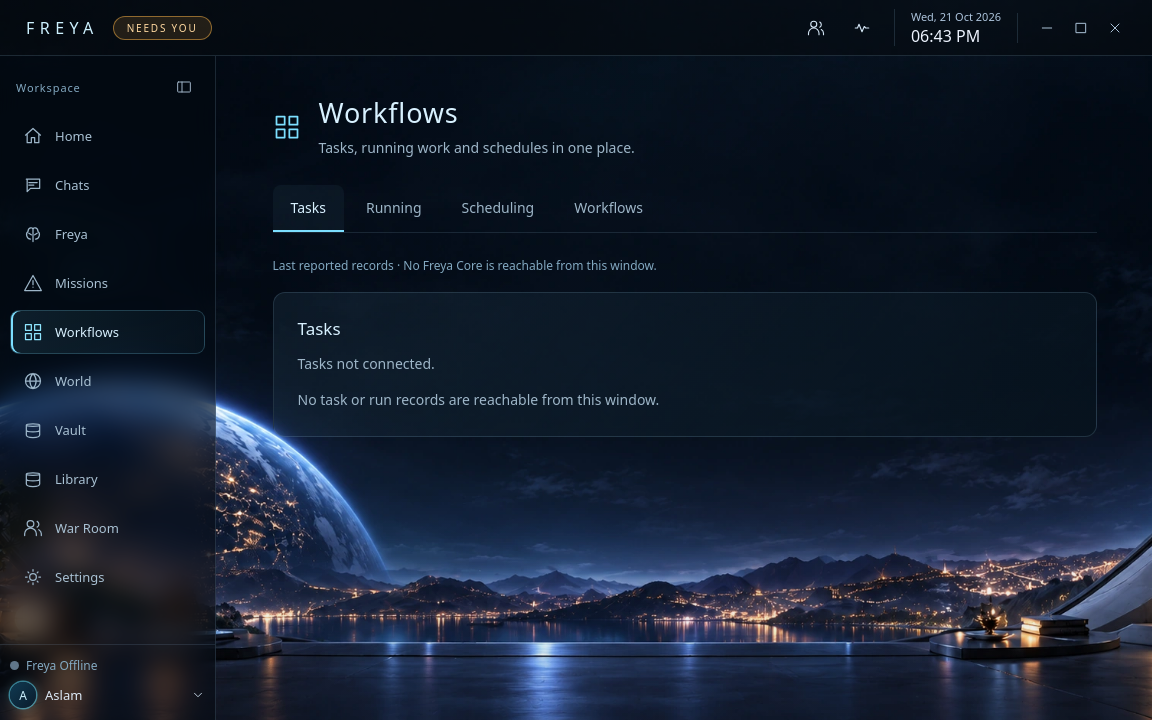
Test case: the shipping primary destinations › remembers Workflows subpages and keeps their tabs horizontal
Step 1. Click the tab "Scheduling" → (498, 209), box [444,185,552,232]
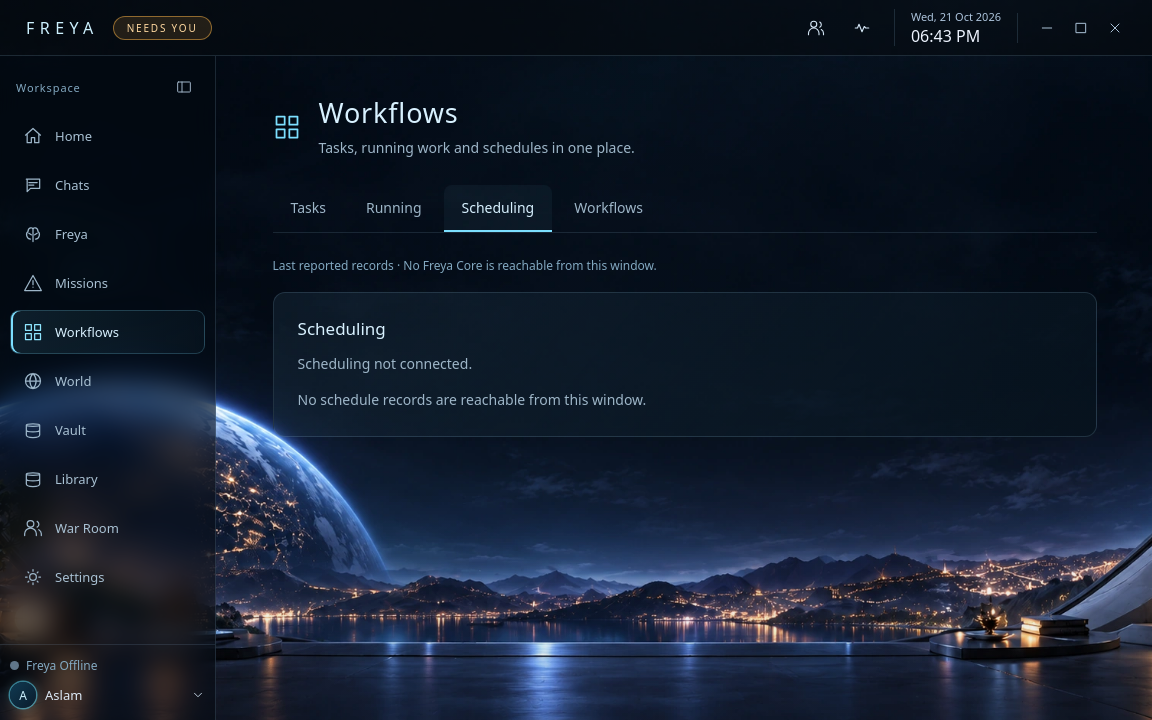
Step 2. Click the button "Chats" → (108, 185), box [10,163,205,207]
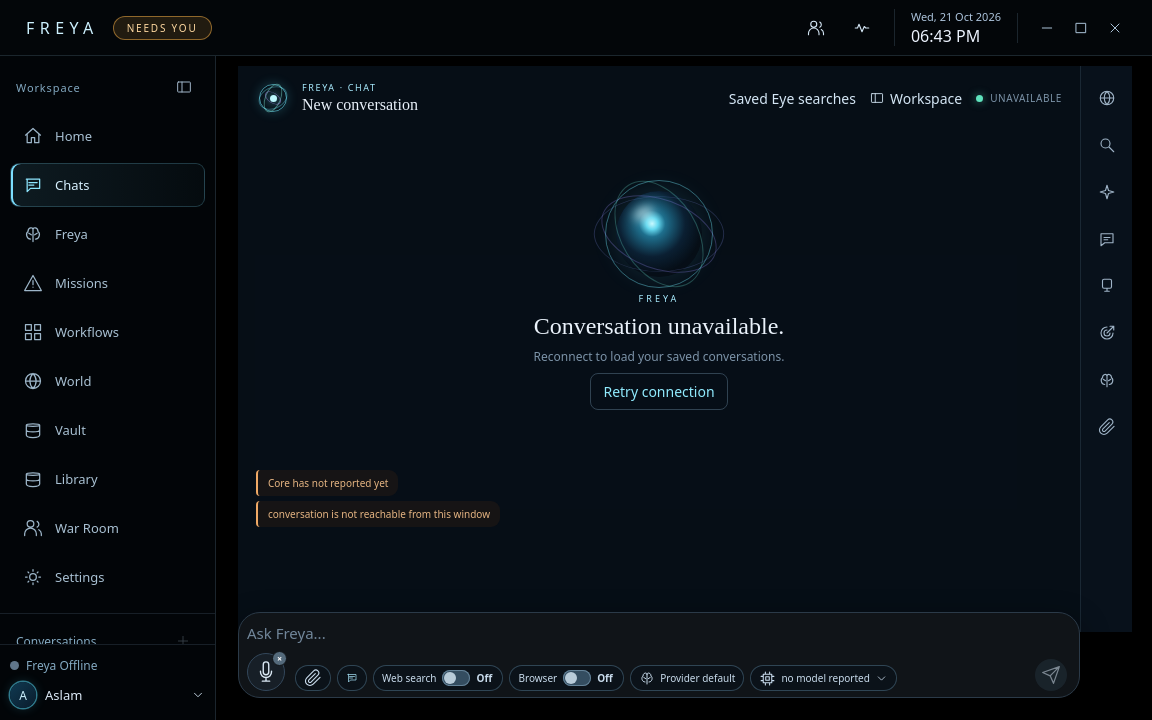
Step 3. Click the button "Workflows" → (108, 332), box [10,310,205,354]
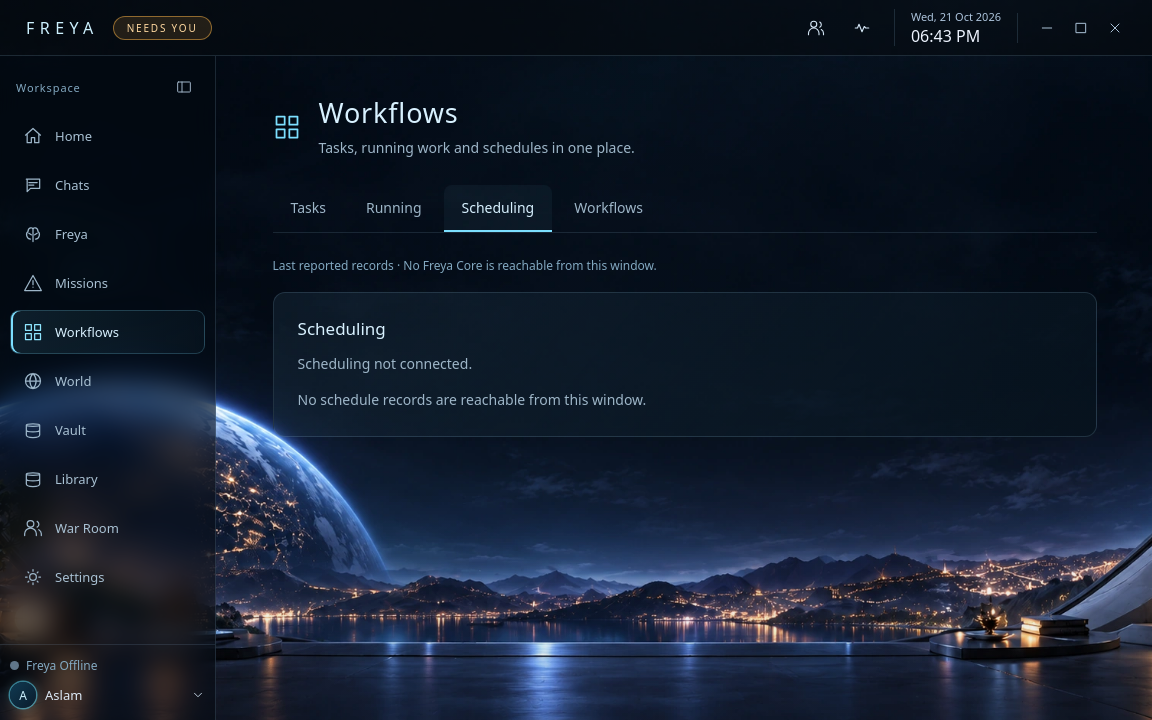
Result: the panel "Scheduling" is shown at [272,257,1097,437]
Step 4. Click the tab "Workflows" → (609, 209), box [556,185,661,232]
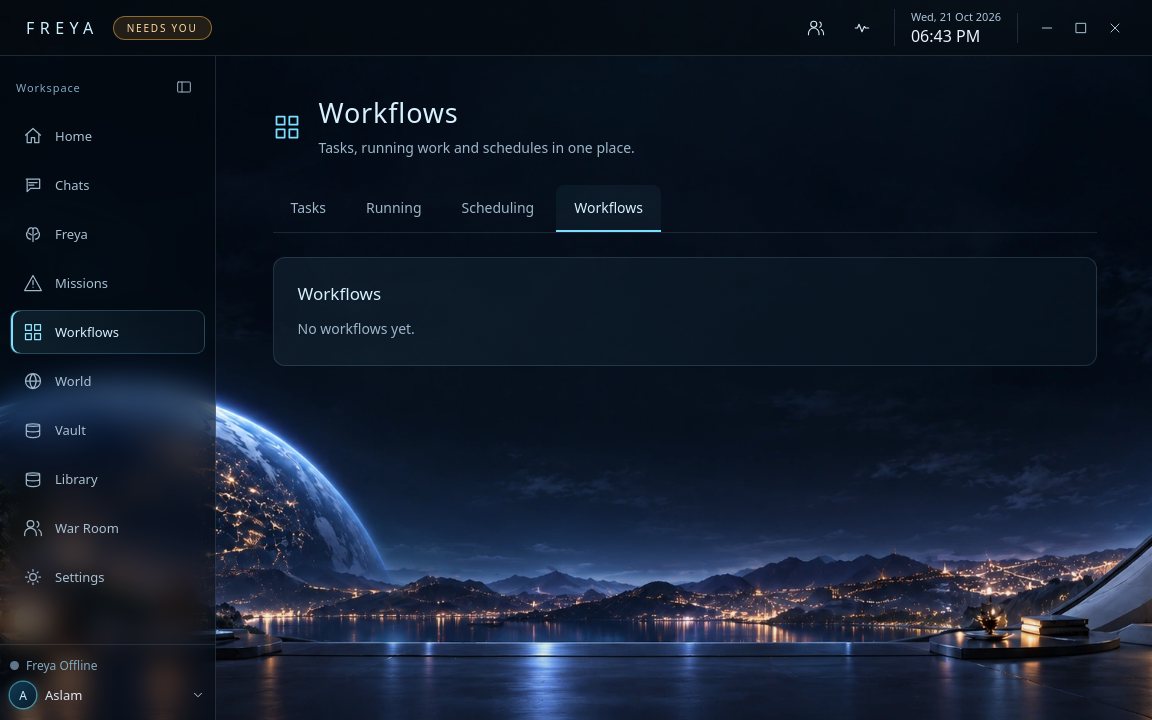
Result: the panel "Workflows" shows "No workflows yet." at [298,319,415,338]
